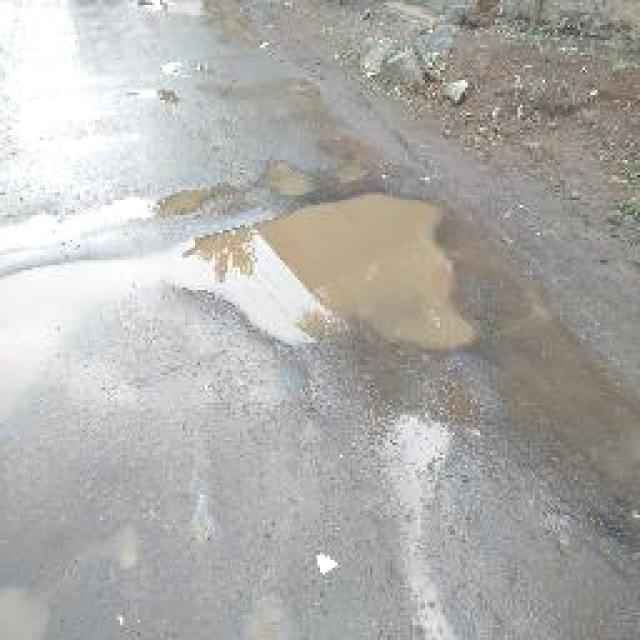stagnation: (190, 163, 498, 367)
